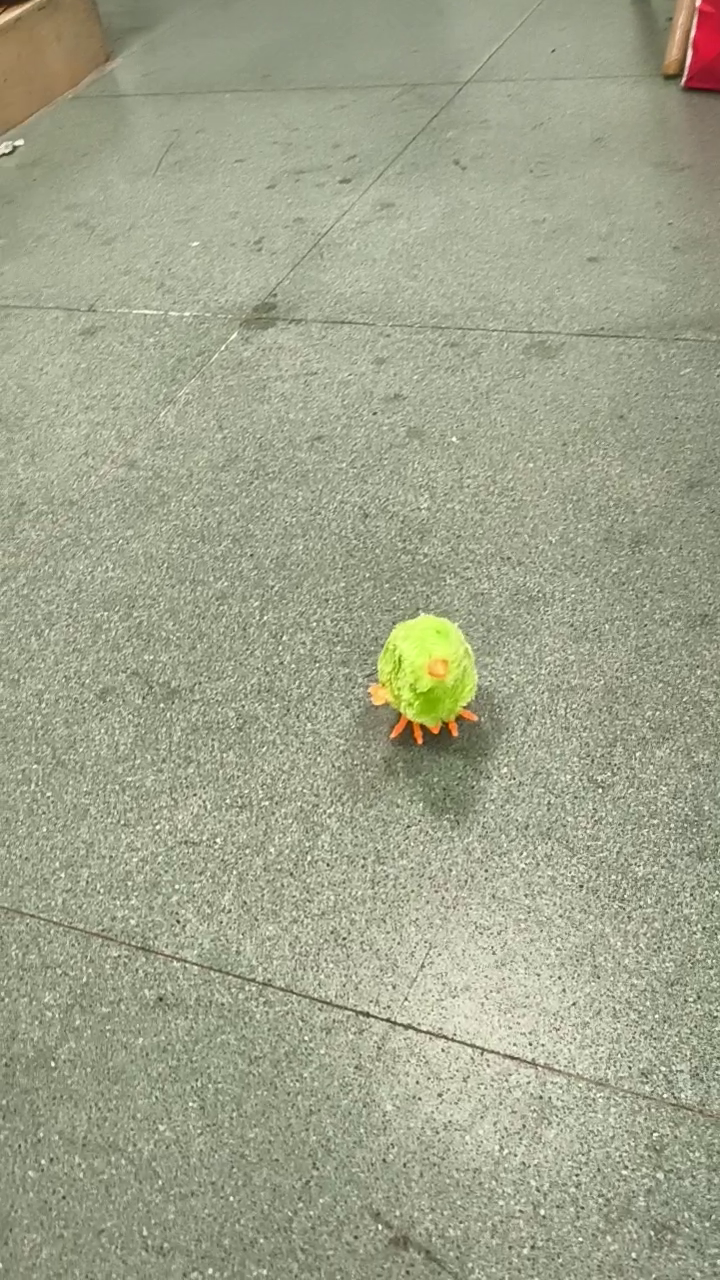green chicken: (361, 608, 489, 747)
